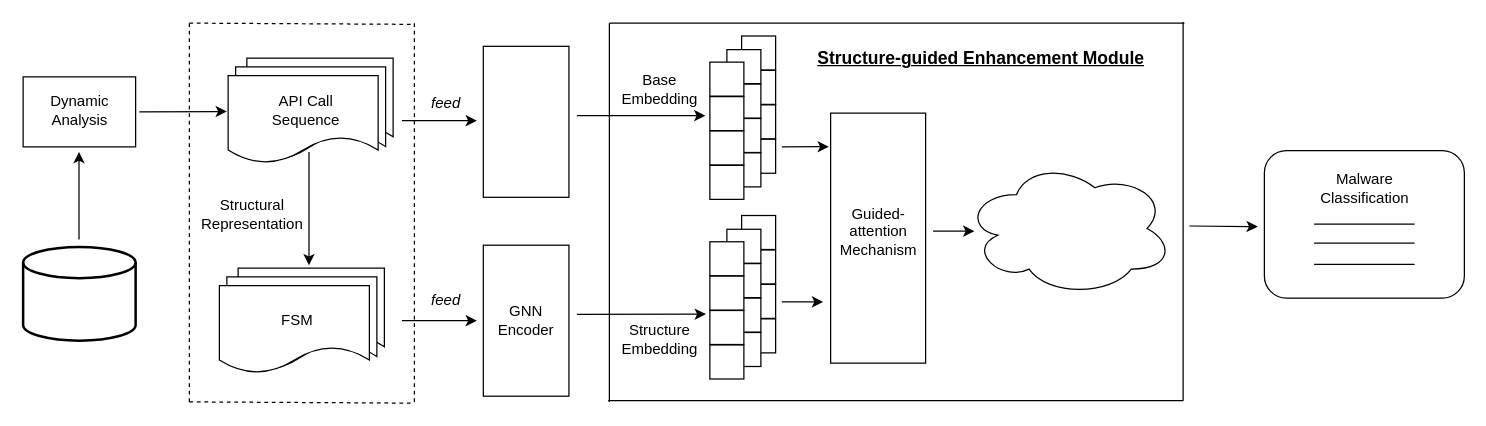
Image size: 1486x426. Some labels were removed from this diagram. Here are the shapes that lost their labels. From the top down, the centre of each, then its label:
the point at 525,121: LLM Encoder
the point at 1068,227: Structure-aware Latent Space
the point at 78,293: Malware Samples
